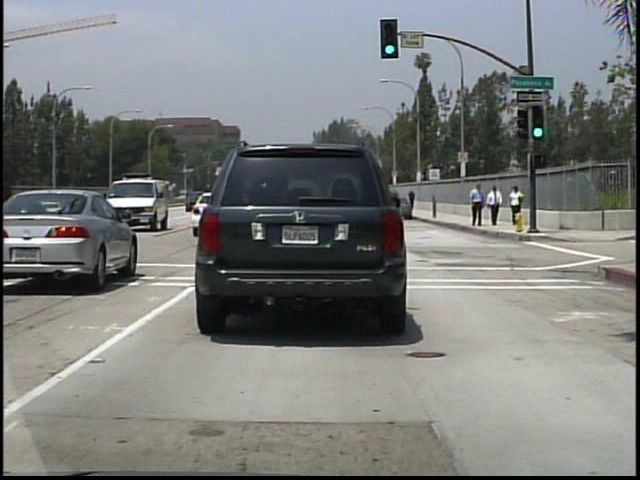person: (467, 180, 485, 229), (486, 185, 503, 227), (509, 184, 525, 214), (408, 189, 418, 205)
